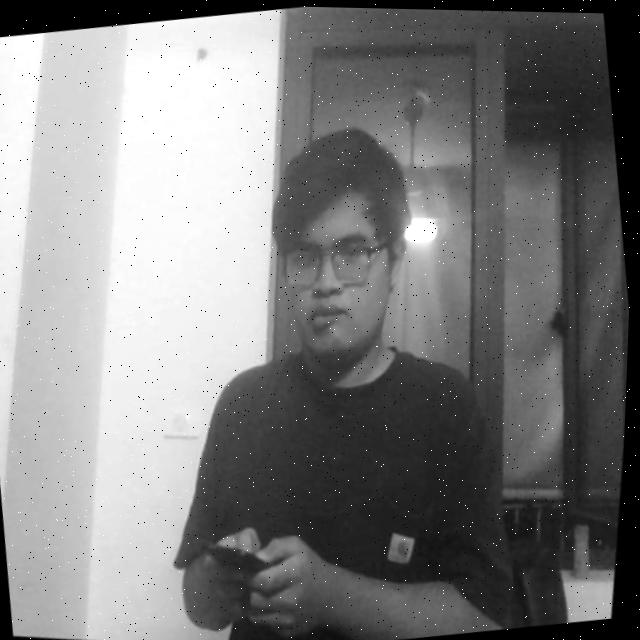phone: (188, 516, 320, 627)
